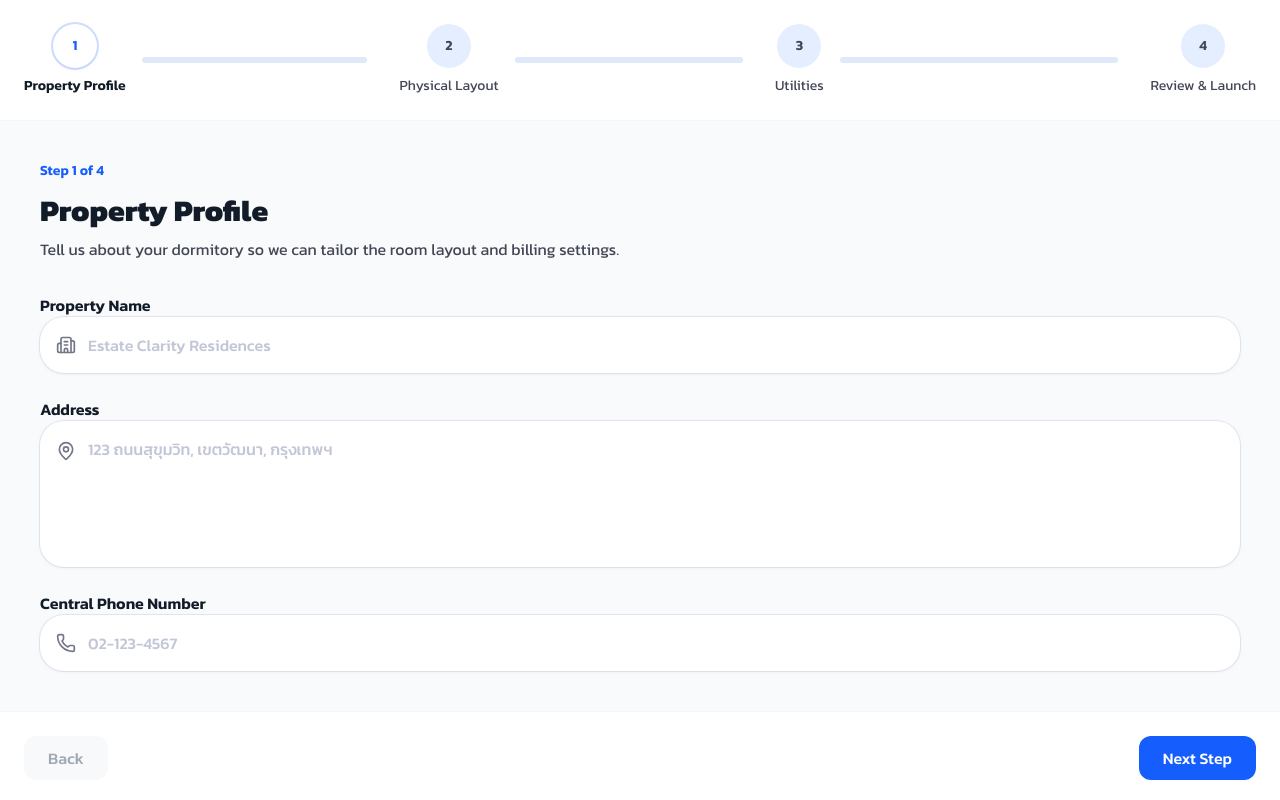
Test case: OnboardingWizard › Test B — Preview Grid updates reactively when floors/roomsPerFloor change › updates total room count and floor preview rows when floors=3 and roomsPerFloor=5
Type "My Dormitory" into the field labelled "Property Name" at {"x": 640, "y": 345}, box [40,317,1240,373]
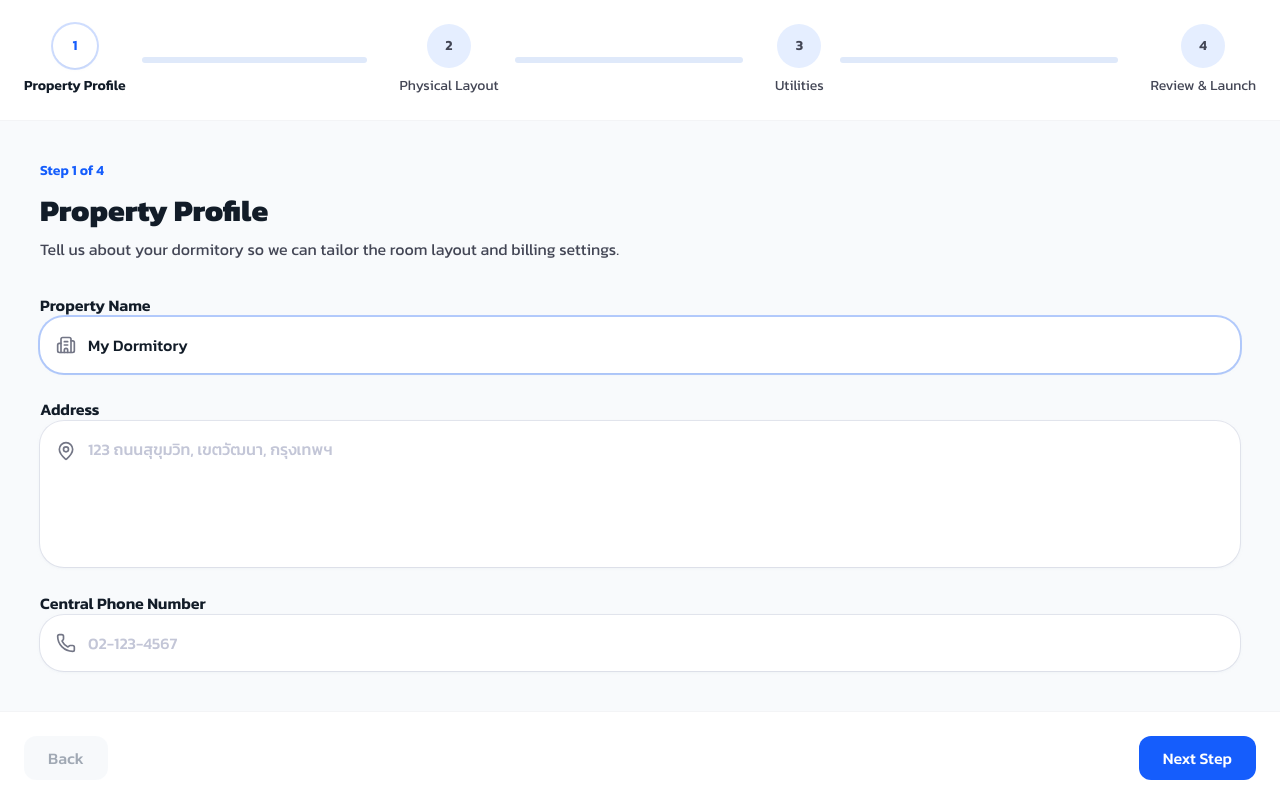
Type "123 Test Street Bangkok" into the text box labelled "Address" at {"x": 640, "y": 491}, box [40,421,1240,561]
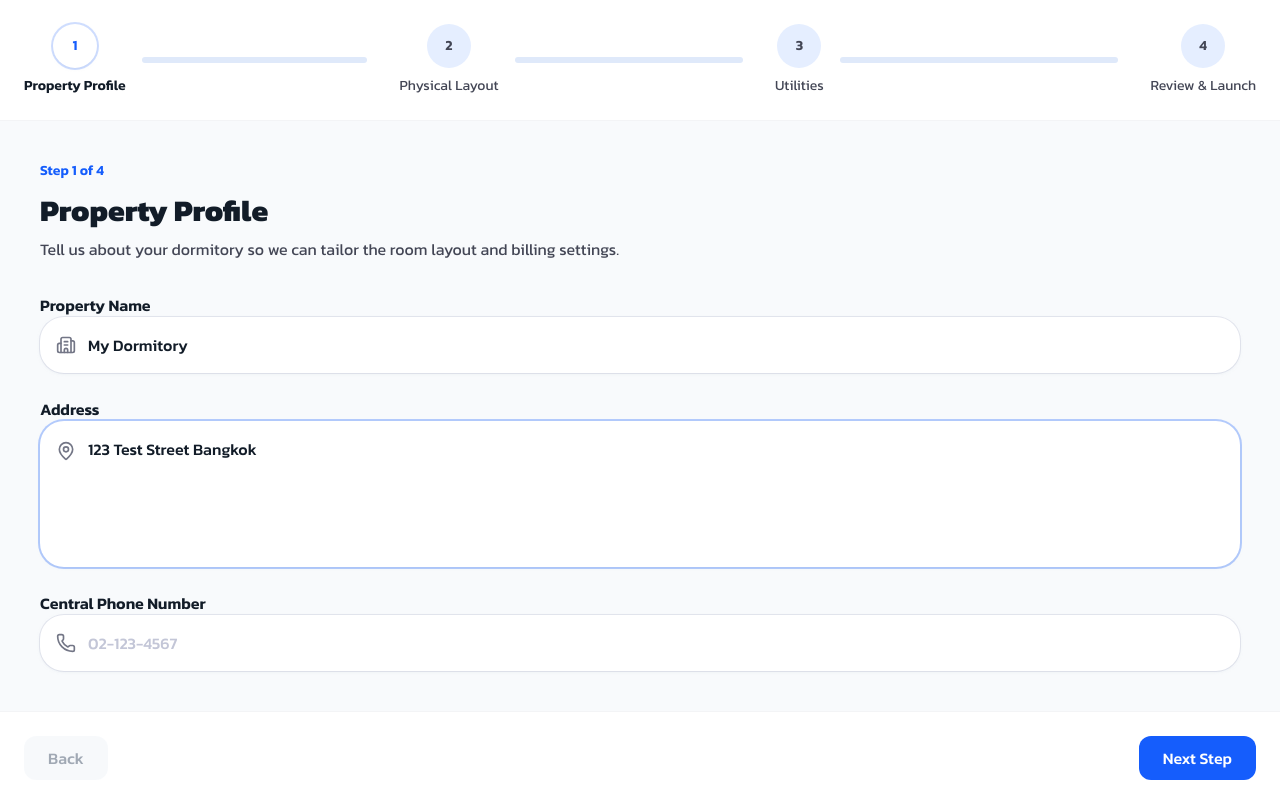
Type "0812345678" into the field labelled "Central Phone Number" at {"x": 640, "y": 643}, box [40,615,1240,671]
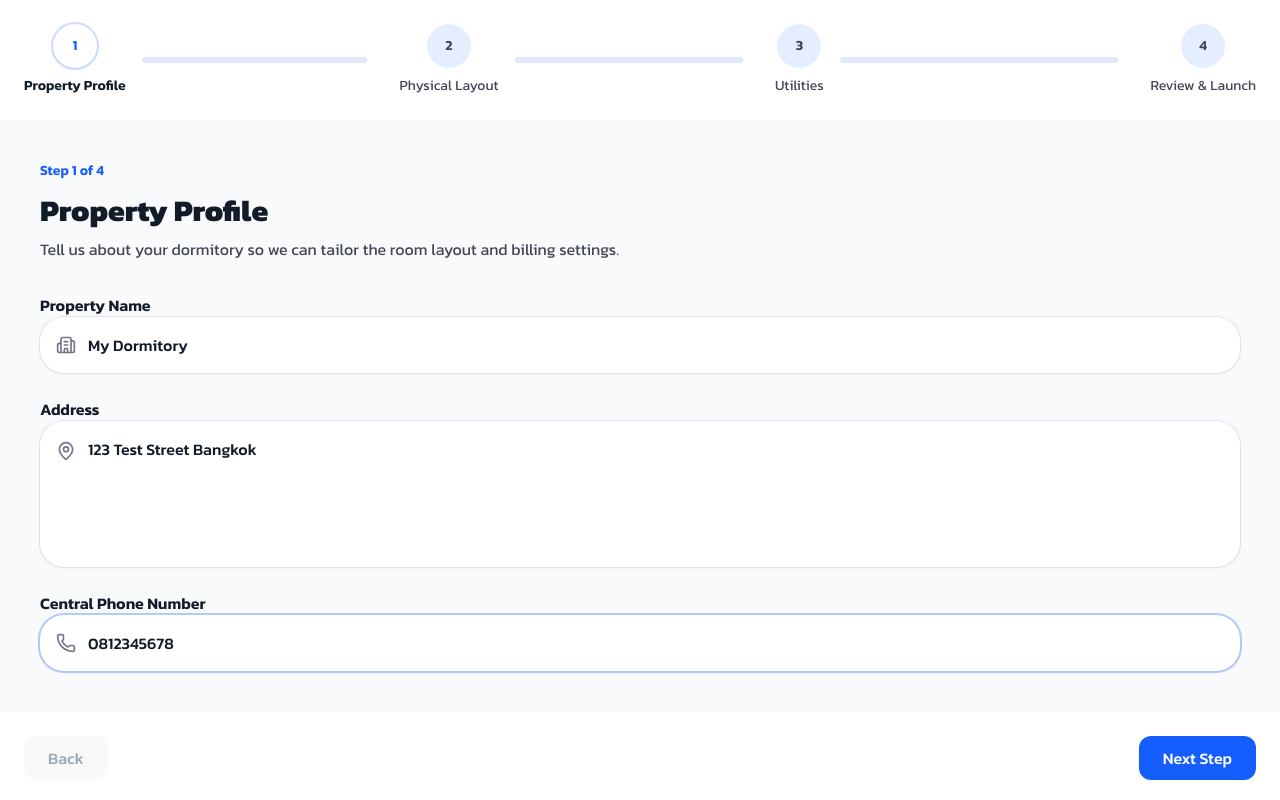
Click the button "Next Step" at {"x": 1197, "y": 758}, box [1139,736,1256,780]
(page scrolled)
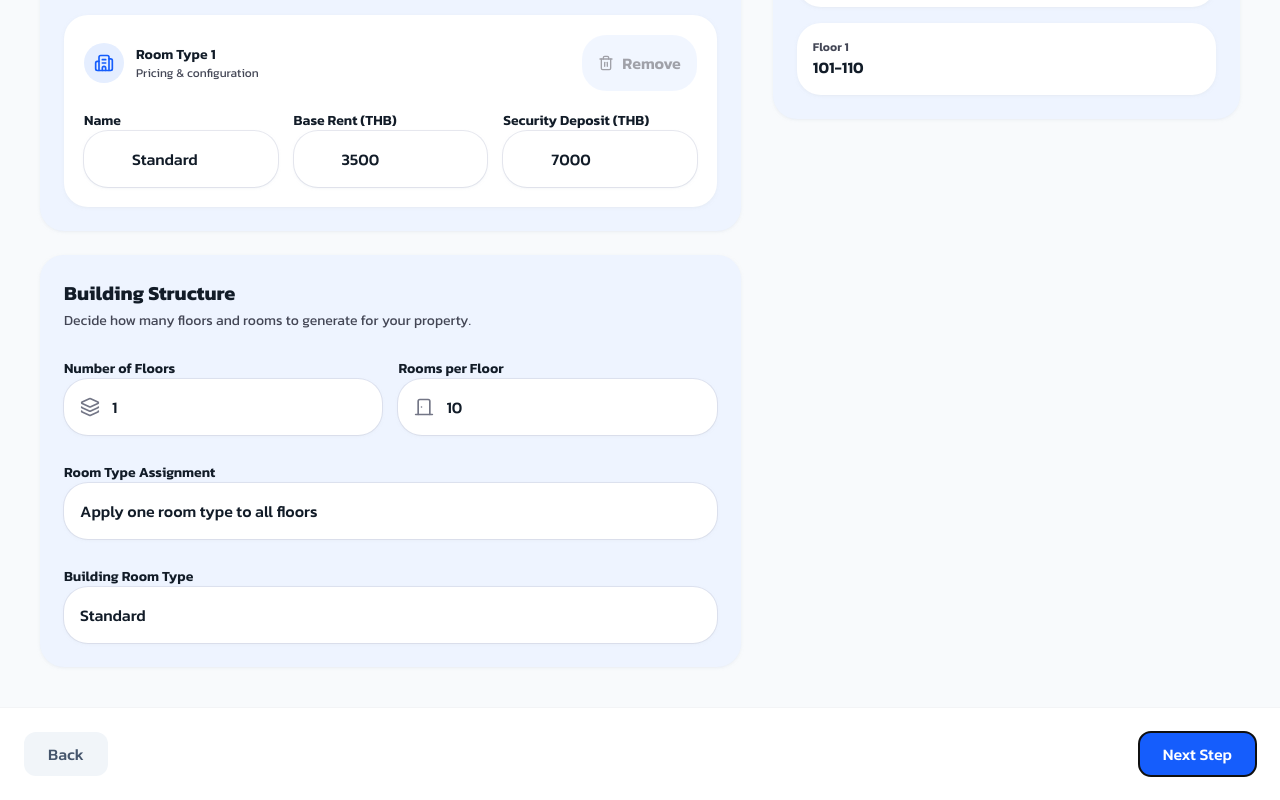
Replace the text in the number field labelled "Number of Floors" with "3" at {"x": 223, "y": 407}, box [64,379,382,435]
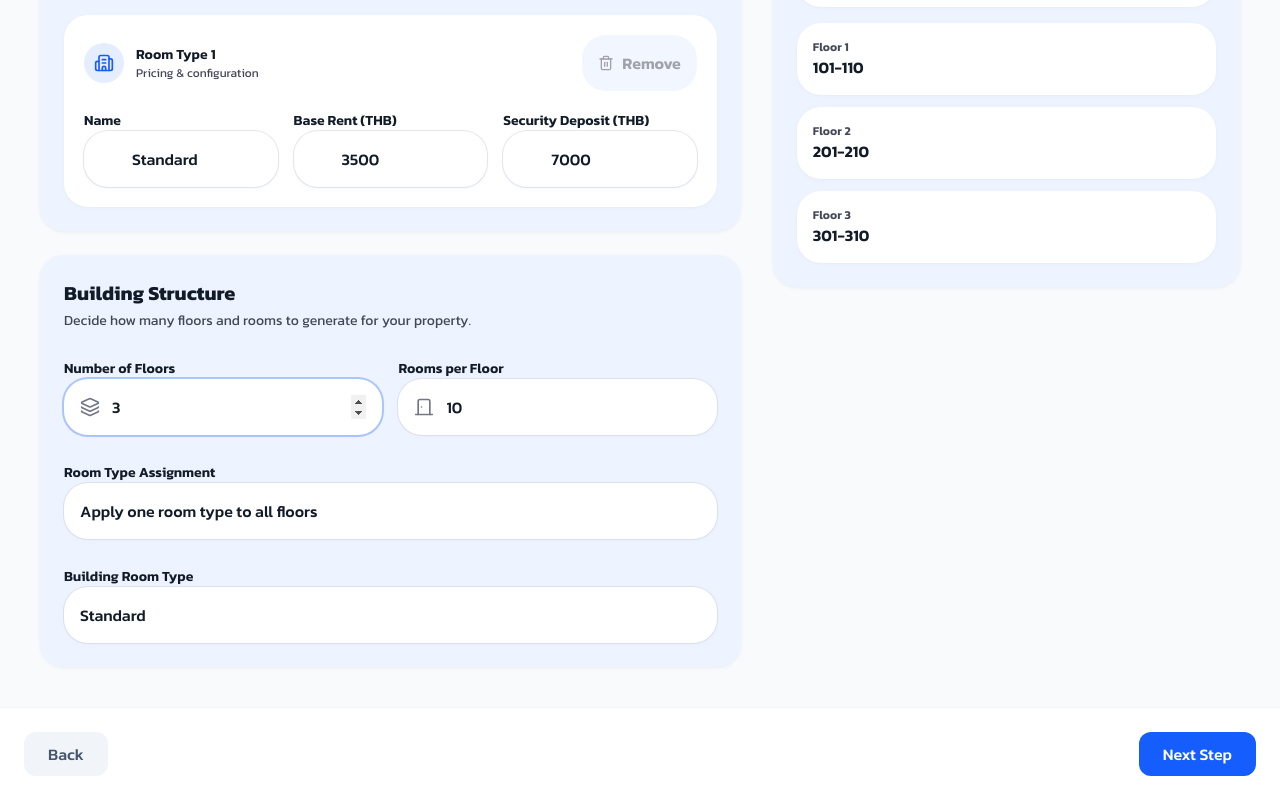
Replace the text in the number field labelled "Rooms per Floor" with "5" at {"x": 558, "y": 407}, box [398,379,717,435]
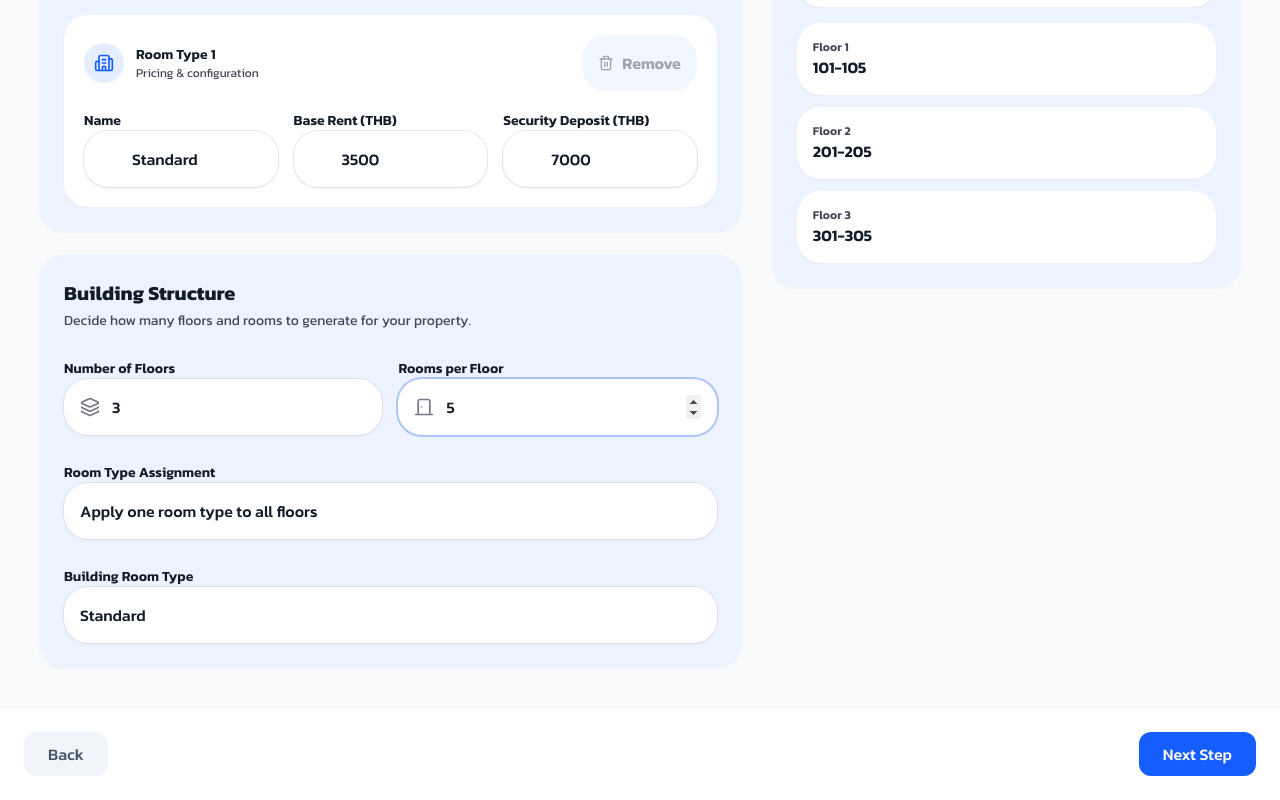
Result: the text "101-105" is shown at [813,55,866,79]
Result: the text "201-205" is shown at [813,139,872,163]
Result: the text "301-305" is shown at [813,223,872,247]
